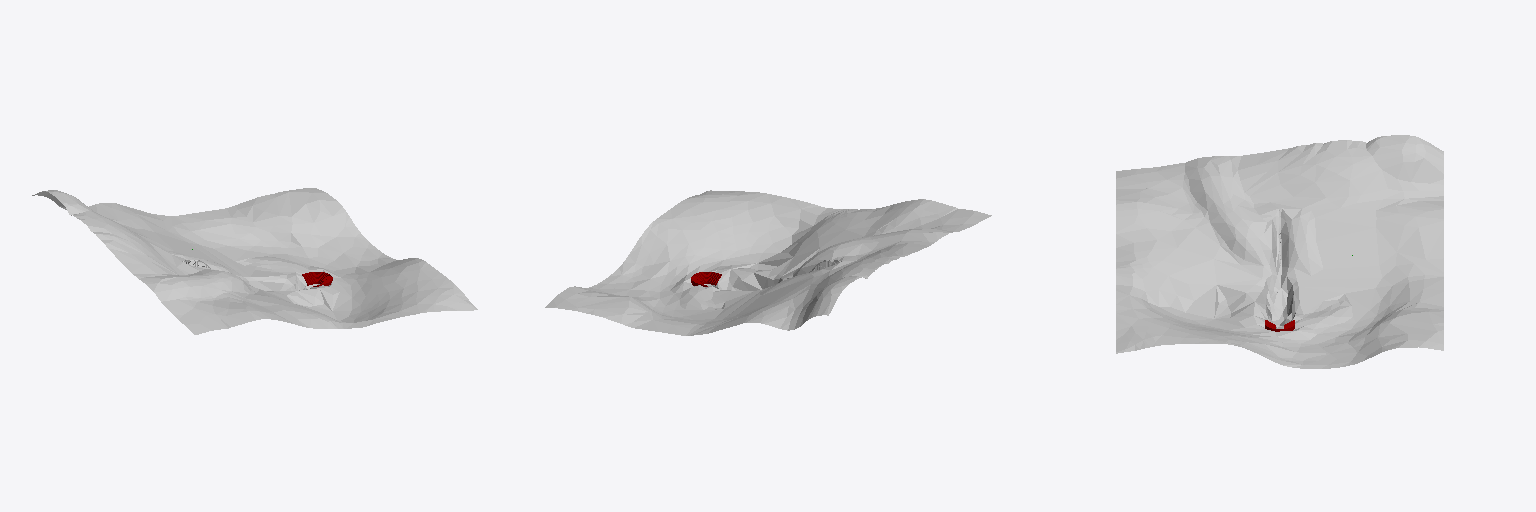
3 views of the same model, side by side, from view 1: azimuth 30°, elevation 25°; view 2: azimuth 150°, elevation 25°; view 3: azimuth 270°, elevation 25° (orthographic).
Parts seen in each view (by area): view 1: MOUNTAIN_Mesh.026; view 2: MOUNTAIN_Mesh.026; view 3: MOUNTAIN_Mesh.026.
Part boxes in pixels (left/top/right/bottom): MOUNTAIN_Mesh.026: left=32, top=188, right=477, bottom=334; MOUNTAIN_Mesh.026: left=545, top=190, right=991, bottom=335; MOUNTAIN_Mesh.026: left=1116, top=135, right=1443, bottom=368.
Bounding box in the file's own units: 1007 × 346 × 1000.